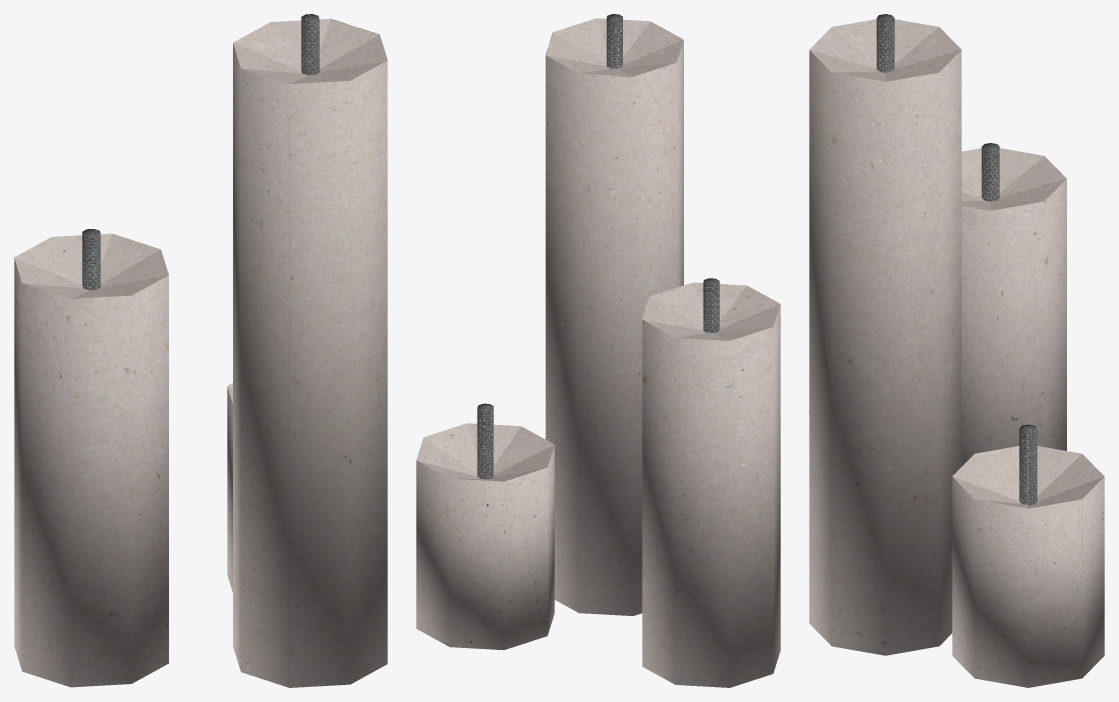
Rendered from Candle1.fbx.
The picture shows the model from 3 angles, left to right: view 1: azimuth 30°, elevation 25°; view 2: azimuth 150°, elevation 25°; view 3: azimuth 270°, elevation 25°; orthographic projection. The views are drawn at different scales.
Visible parts, largest first — view 1: Candle_Baked; view 2: Candle_Baked; view 3: Candle_Baked.
Part boxes in pixels (x1=…): Candle_Baked: x1=14, y1=14, x2=387, y2=687; Candle_Baked: x1=416, y1=14, x2=780, y2=687; Candle_Baked: x1=809, y1=14, x2=1104, y2=687.
Bounding box in the file's own units: 6.49 × 10.64 × 4.7.
Materials: 1 (1 with a texture image).
